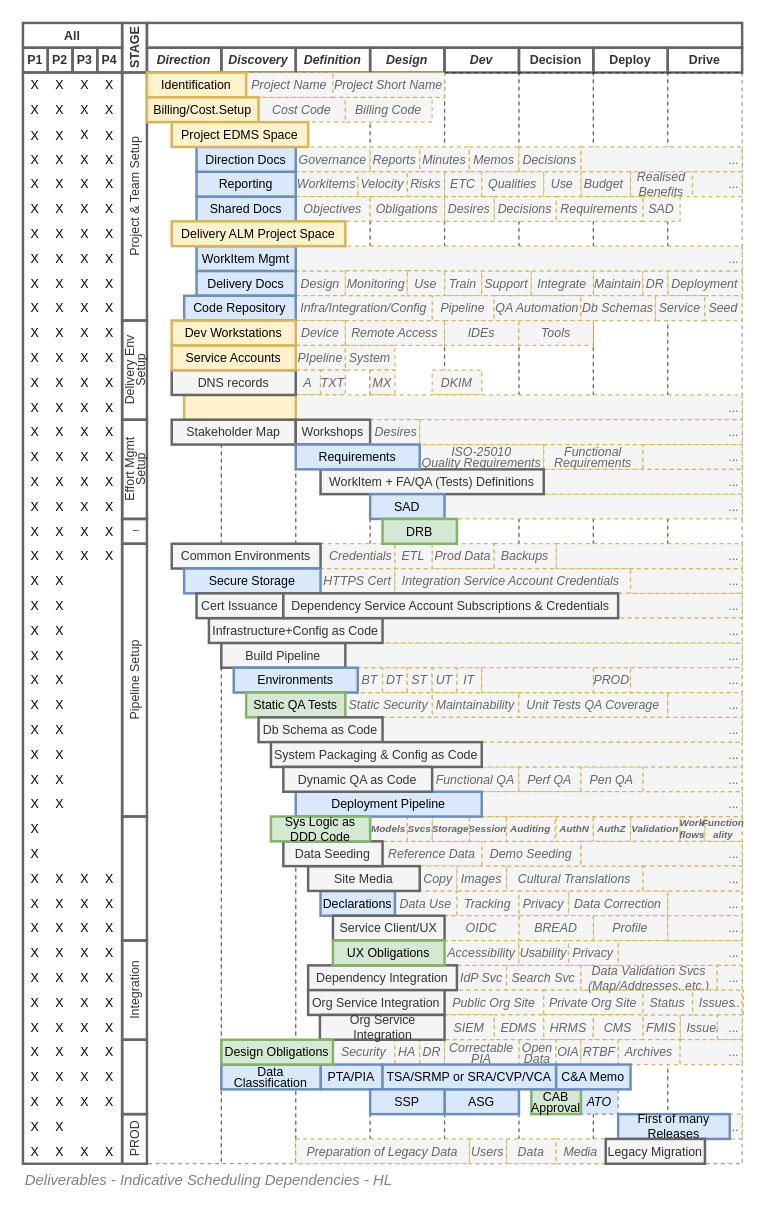
Some shapes in this 765 by 1215 pixel diagram are drawn without their labels. Here are the shapes that lost their labels. From the top down, the centre of each, then its label:
At (444,34): "Activity Type".
At (239,406): "Cloud Subscription".
At (134,878): "Svc Development".
At (134,1076): "Assurance".
